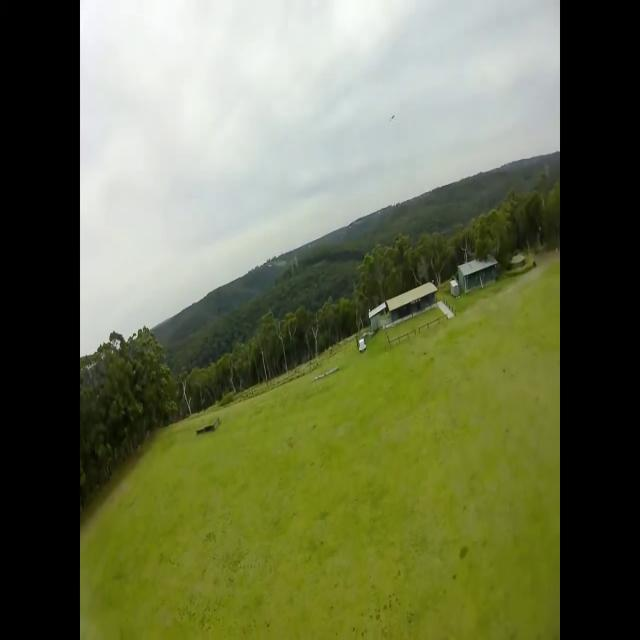iha: (384, 51, 390, 55)
